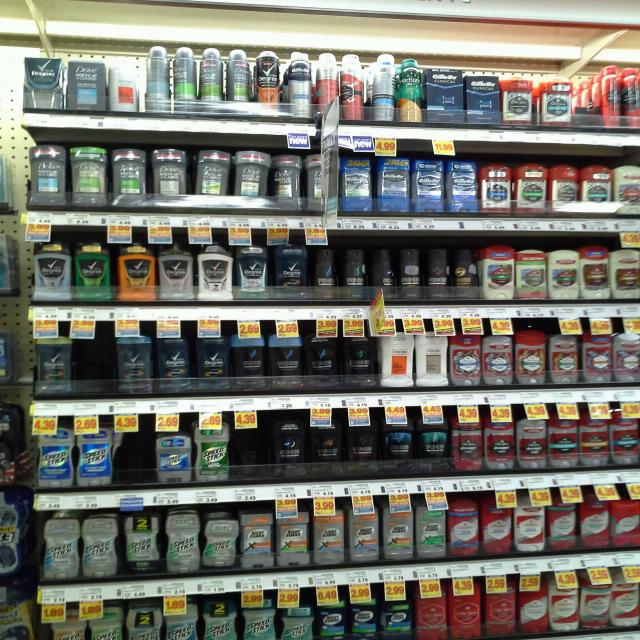unorganised: (371, 55, 396, 122), (149, 47, 171, 120), (316, 55, 339, 121)
